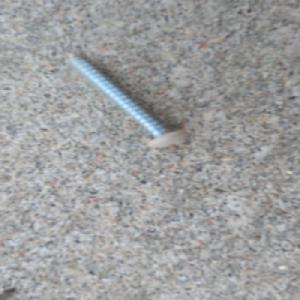Screw: (62, 48, 192, 149)
